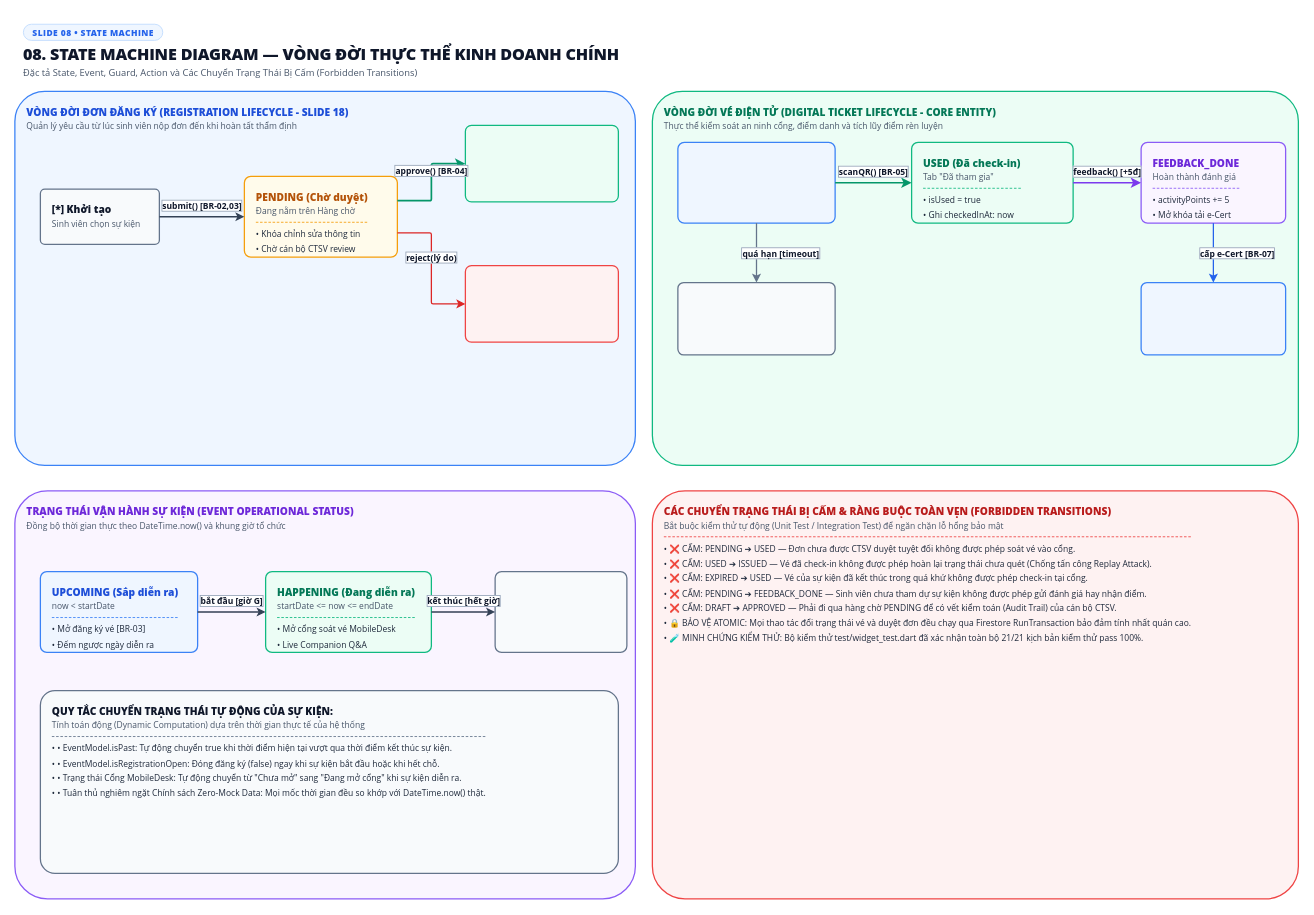
The diagram is 1314 pixels wide and 915 high, and some of its shapes have lost their labels. Each missing label, with the box of its shape:
APPROVED (Đã duyệt) Đạt điều kiện tham dự • Kích hoạt tạo Vé điện tử: (464, 124, 619, 202)
CERT_CLAIMED Đã tải chứng nhận • e-Certificate PDF SHA-256 • Lưu Cloud Storage: (1140, 282, 1286, 355)
COMPLETED (Đã diễn ra) now > endDate • Đóng cổng soát vé • Tổng kết viễn trắc: (494, 571, 627, 653)
EXPIRED (Quá hạn) Không đến dự sự kiện • Sự kiện đã kết thúc • Khóa quét QR: (677, 282, 835, 355)
ISSUED (Đã phát hành) Tab "Sắp diễn ra" • isUsed = false • Mã QR hoạt động: (677, 141, 835, 223)
REJECTED (Từ chối) Không đạt tiêu chí • Lưu lý do từ chối cụ thể: (464, 265, 619, 342)
